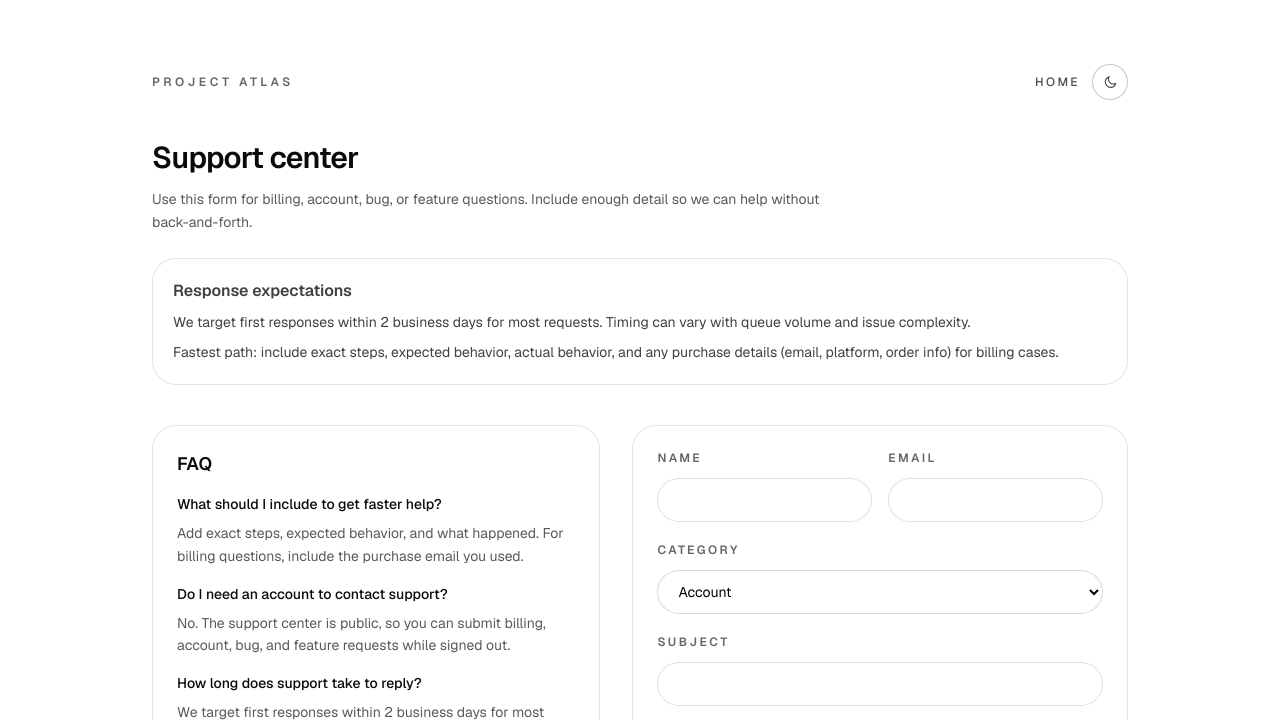
Scenario: SupportCenter › submits support form and shows success toast
The width and height of the screenshot is (1280, 720).
In the field labelled "Name": (765, 500) x1=657 y1=478 x2=872 y2=522, type "Atlas User"
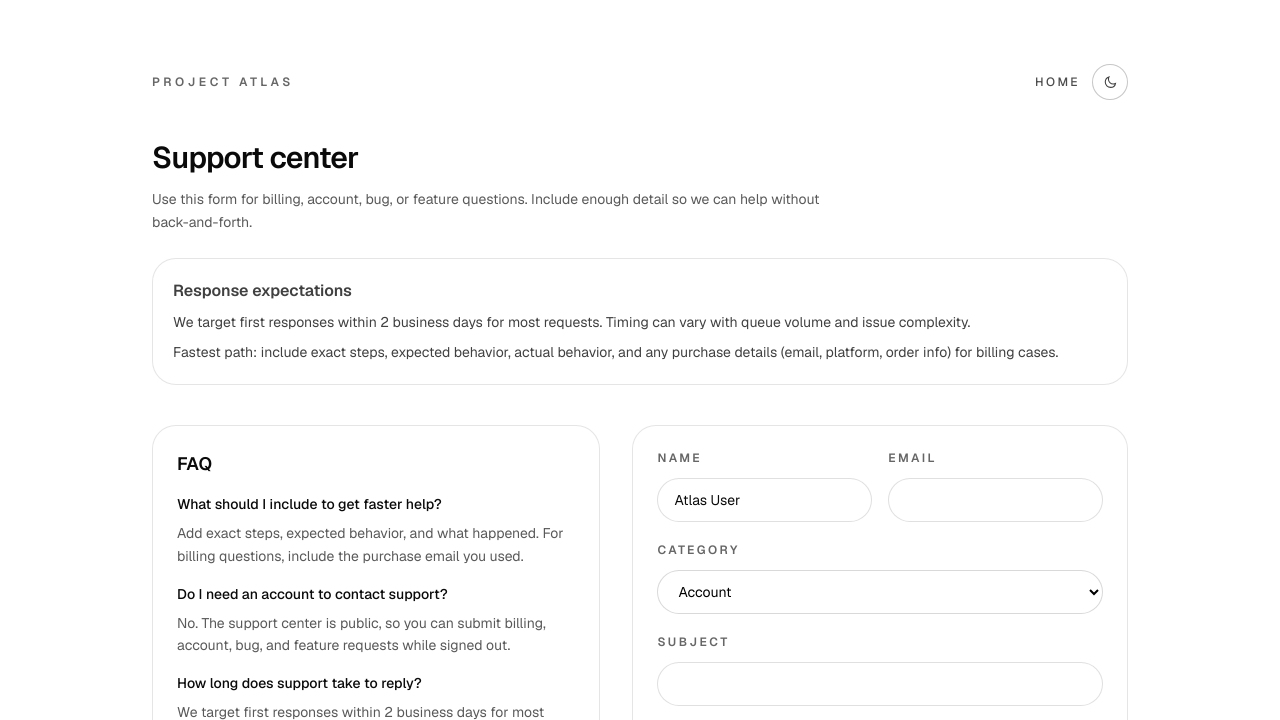
In the field labelled "Email": (996, 500) x1=888 y1=478 x2=1103 y2=522, type "user@example.com"
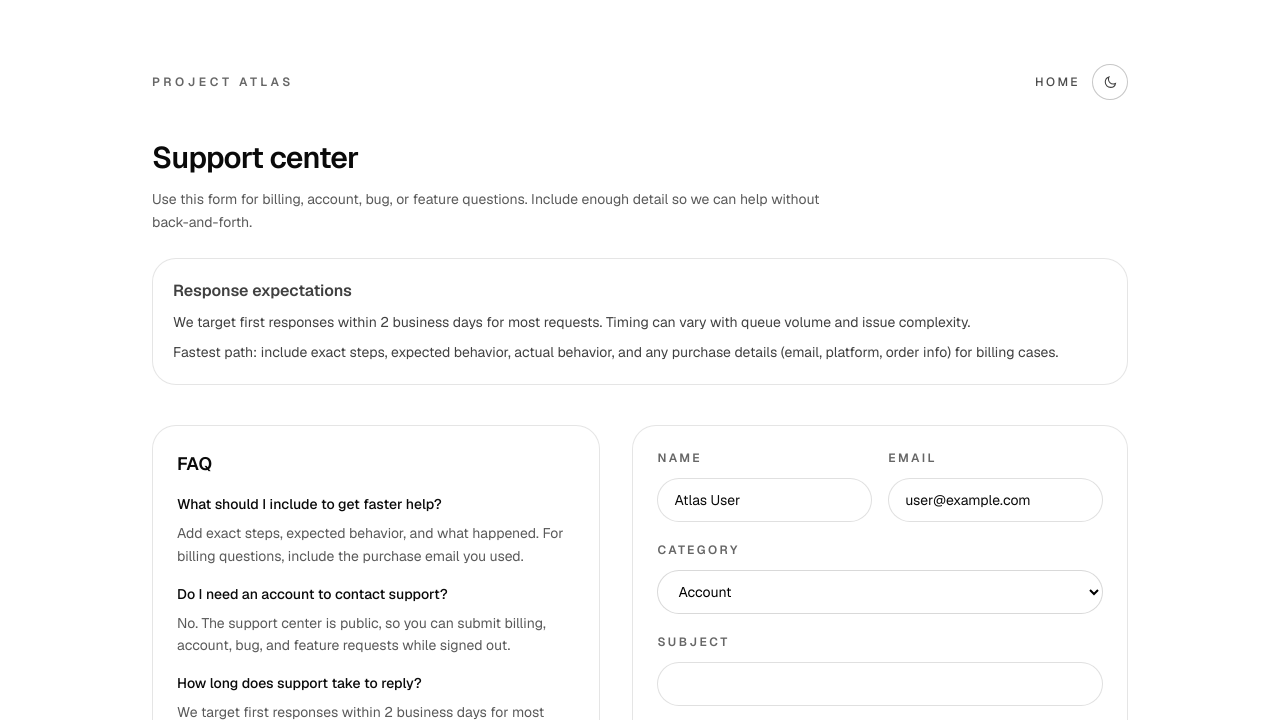
In the field labelled "Subject": (880, 684) x1=657 y1=662 x2=1103 y2=706, type "Unable to submit completion"
(page scrolled)
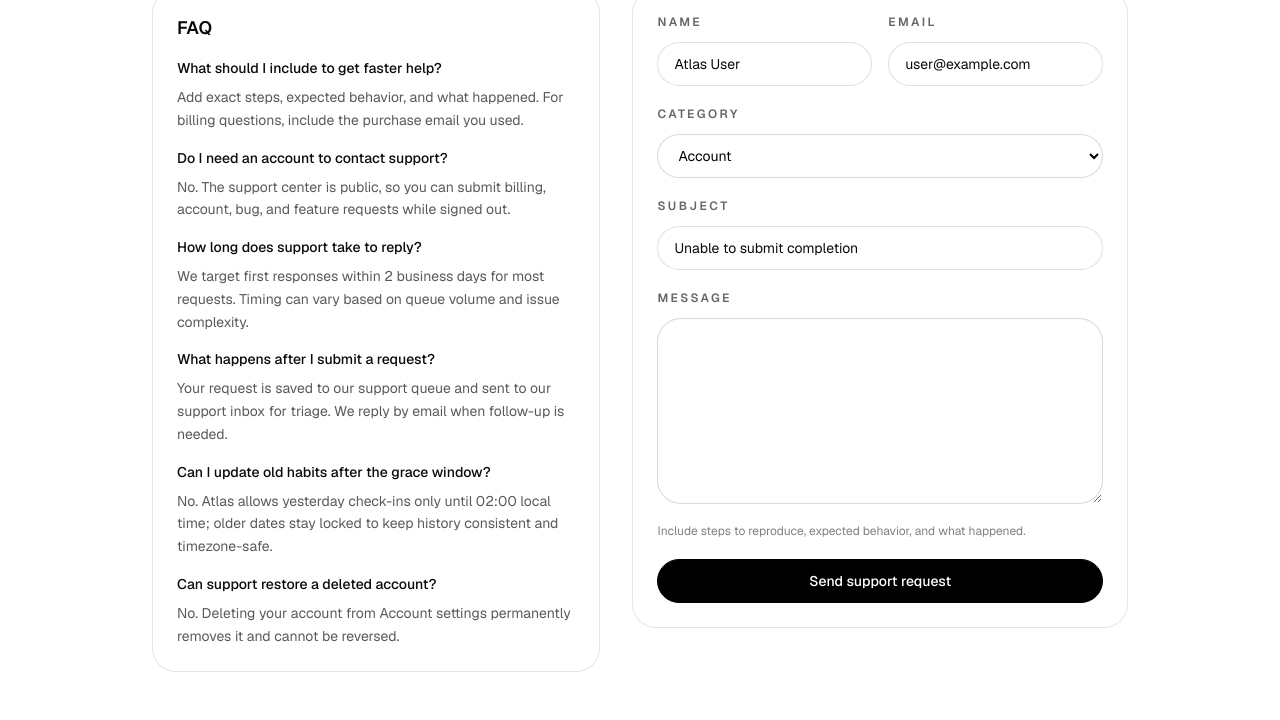
In the text box labelled "Message": (880, 411) x1=657 y1=318 x2=1103 y2=504, type "I keep getting blocked when trying to submit completions on calendar."
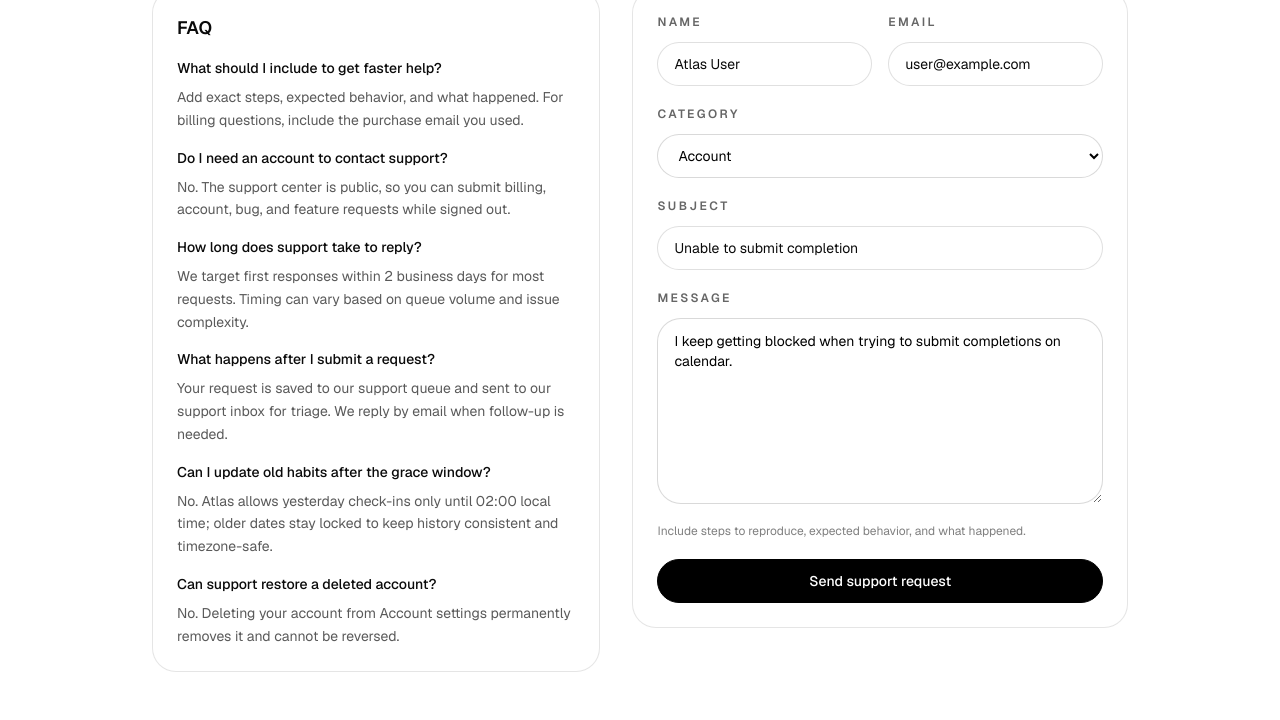
Submit the form from the button "Send support request", box x1=657 y1=559 x2=1103 y2=603
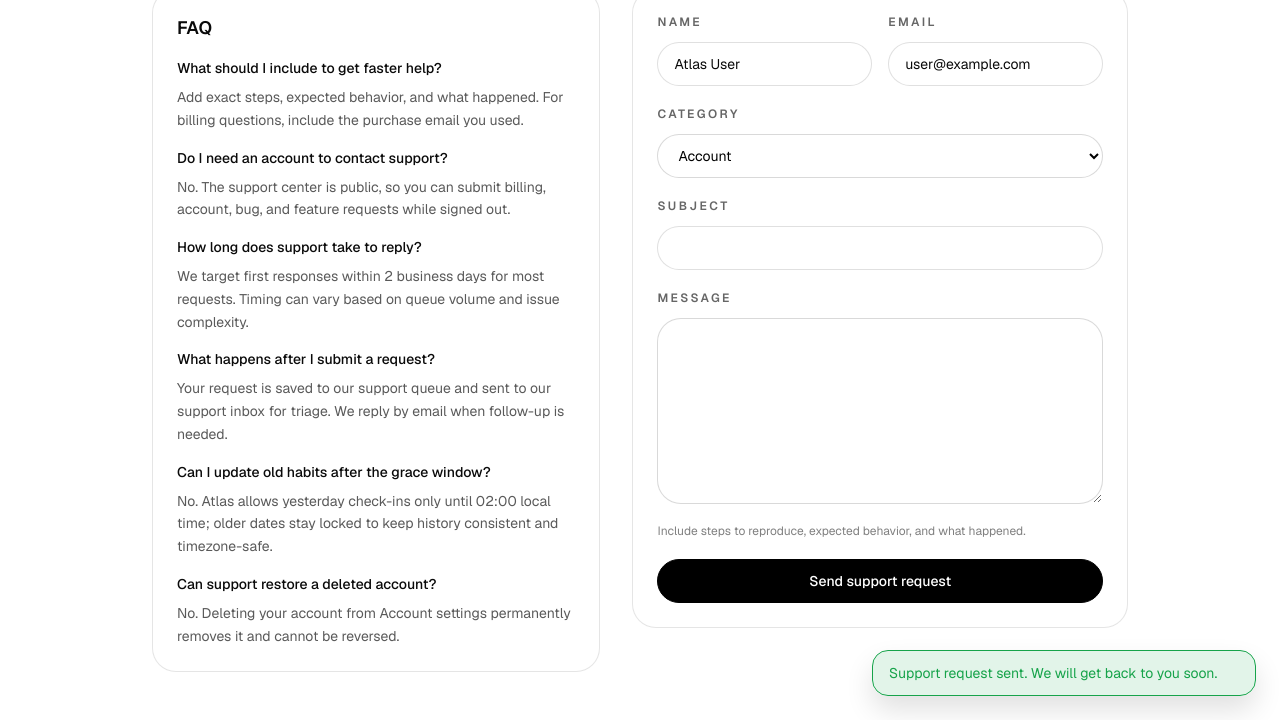
Result: the text "Support request sent. We will get back to you soon." is shown at x1=872 y1=650 x2=1256 y2=696
